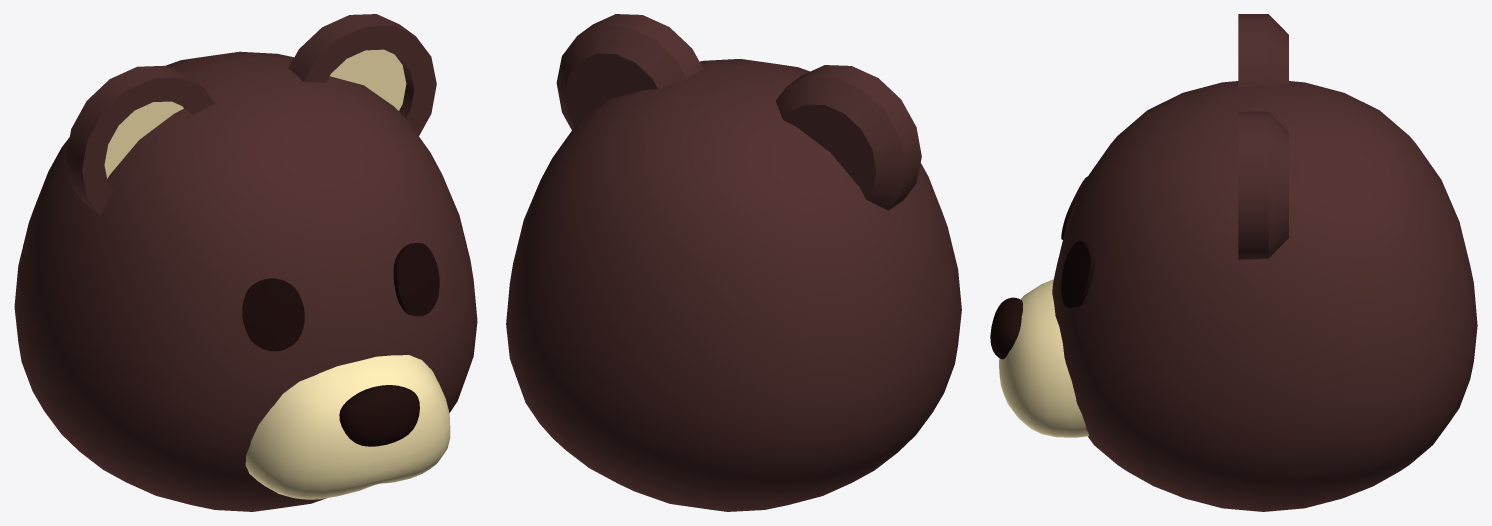
Rendered from bear.gltf.
3 renders of one model, left to right at view 1: azimuth 30°, elevation 25°; view 2: azimuth 150°, elevation 25°; view 3: azimuth 270°, elevation 25°, orthographic. The views are drawn at different scales.
Visible parts, largest first — view 1: Cube.6252, Cylinder.363, Cube.6254, Circle.1925, Cube.6255; view 2: Cube.6252, Cylinder.363; view 3: Cube.6252, Cylinder.363, Cube.6254, Circle.1925, Cube.6255.
Part boxes in pixels (left/top/right/bottom): Cube.6252: left=14, top=51, right=477, bottom=511; Cylinder.363: left=66, top=14, right=436, bottom=214; Cube.6254: left=245, top=355, right=450, bottom=499; Circle.1925: left=242, top=243, right=439, bottom=351; Cube.6255: left=339, top=385, right=419, bottom=446; Cube.6252: left=506, top=59, right=961, bottom=511; Cylinder.363: left=556, top=14, right=921, bottom=210; Cube.6252: left=1052, top=81, right=1477, bottom=511; Cylinder.363: left=1238, top=14, right=1288, bottom=259; Cube.6254: left=999, top=279, right=1088, bottom=437; Circle.1925: left=1061, top=176, right=1094, bottom=308; Cube.6255: left=990, top=297, right=1022, bottom=359.
Bounding box in the file's own units: 2.18 × 2.36 × 2.48.
3 materials, 1 textured.
